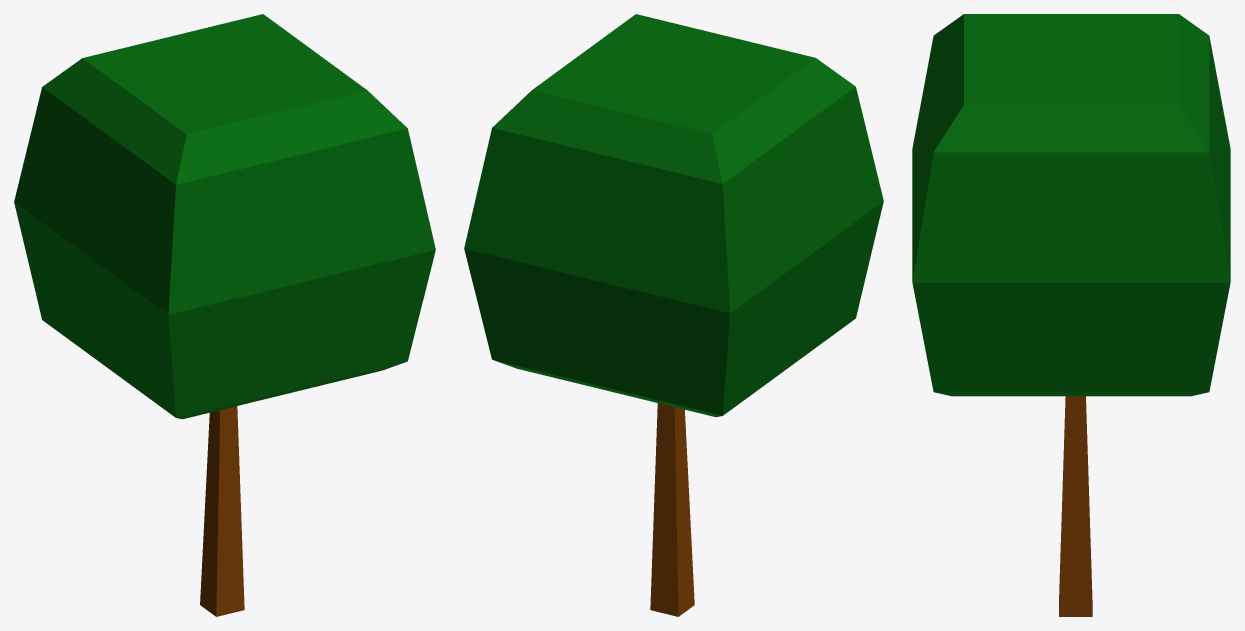
Rendered from treeedited.fbx.
3 views of the same model, side by side, from view 1: azimuth 30°, elevation 25°; view 2: azimuth 150°, elevation 25°; view 3: azimuth 270°, elevation 25° (orthographic). The views are drawn at different scales.
Parts seen in each view (by area): view 1: low poly tree 2 leaves; view 2: low poly tree 2 leaves; view 3: low poly tree 2 leaves.
Boxes of the visible parts, <box> form: low poly tree 2 leaves: <box>14,14,435,616</box>; low poly tree 2 leaves: <box>464,14,883,616</box>; low poly tree 2 leaves: <box>912,14,1230,616</box>.
Bounding box in the file's own units: 848 × 1620 × 848.
